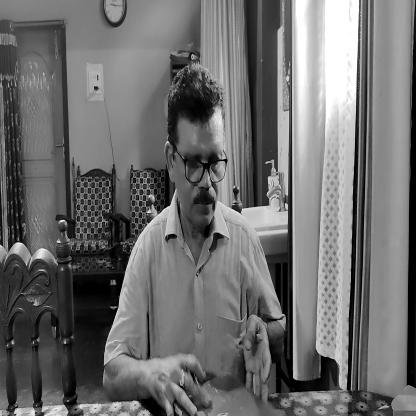Normal: (164, 58, 228, 243)
